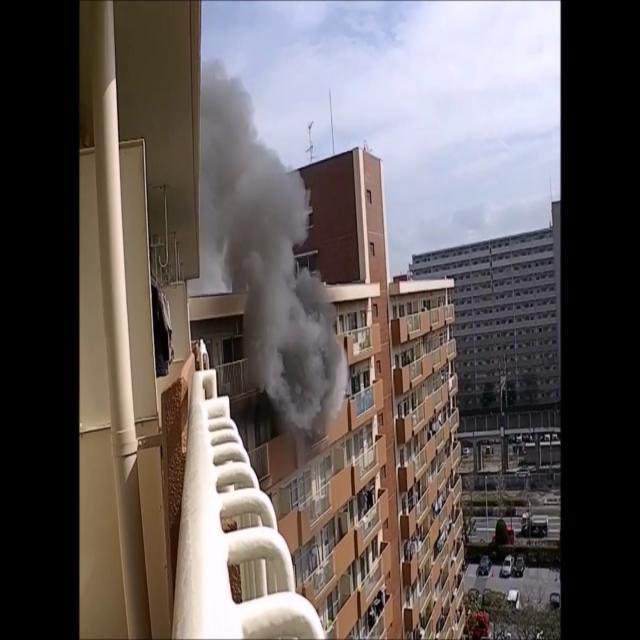Smoke: (198, 41, 340, 418)
